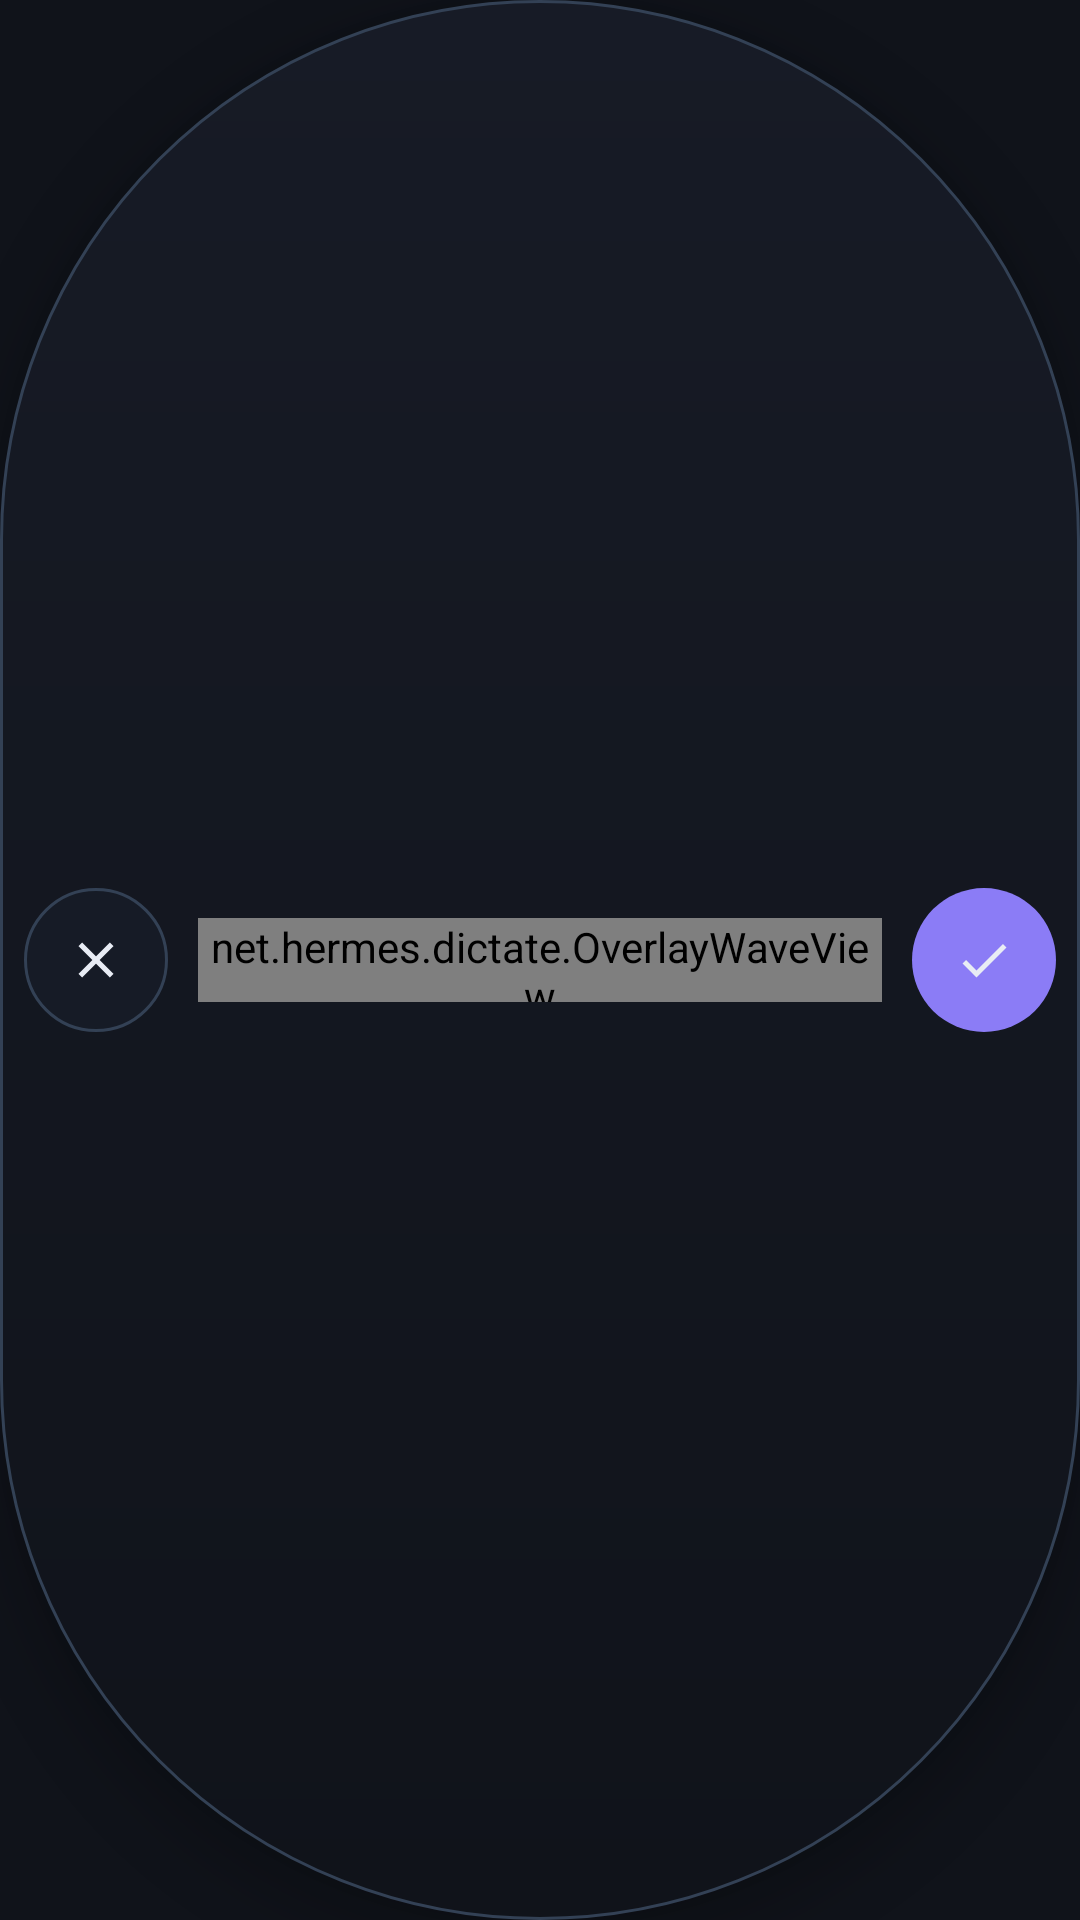

Icon click points for this 1080 × 1920 phone screenshot, format (x=x, y=y):
Diktat abbrechen: (x=96, y=960)
